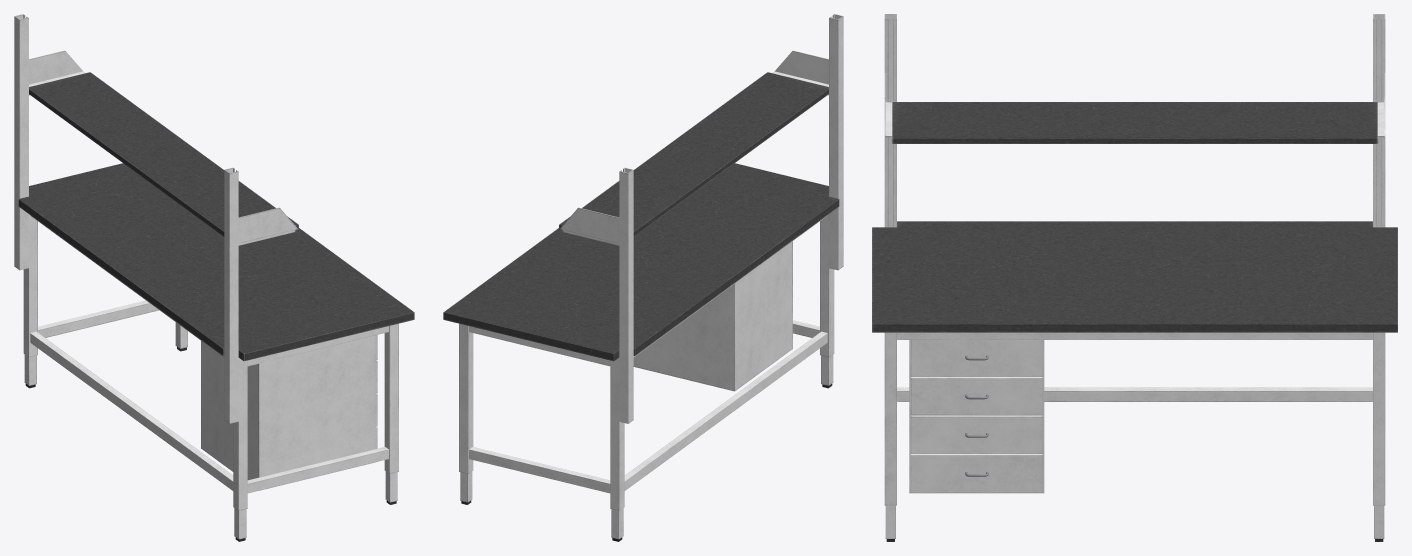
Rendered from mesa_laboratorio.glb.
The picture shows the model from 3 angles, left to right: view 1: azimuth 30°, elevation 25°; view 2: azimuth 150°, elevation 25°; view 3: azimuth 270°, elevation 25°; orthographic projection. The views are drawn at different scales.
Parts seen in each view (by area): view 1: Base, Box, Holder; view 2: Base, Holder, Box; view 3: Base, Holder, Box.
Boxes of the visible parts, x1=… form: Base: x1=14, y1=14, x2=414, y2=541; Box: x1=201, y1=335, x2=377, y2=490; Holder: x1=29, y1=50, x2=298, y2=245; Base: x1=443, y1=14, x2=843, y2=541; Holder: x1=559, y1=50, x2=828, y2=245; Box: x1=633, y1=241, x2=792, y2=391; Base: x1=872, y1=14, x2=1397, y2=541; Holder: x1=884, y1=73, x2=1385, y2=143; Box: x1=909, y1=340, x2=1044, y2=493.
Bounding box in the file's own units: 102 × 200 × 220.
Materials: 1 (1 with a texture image).
